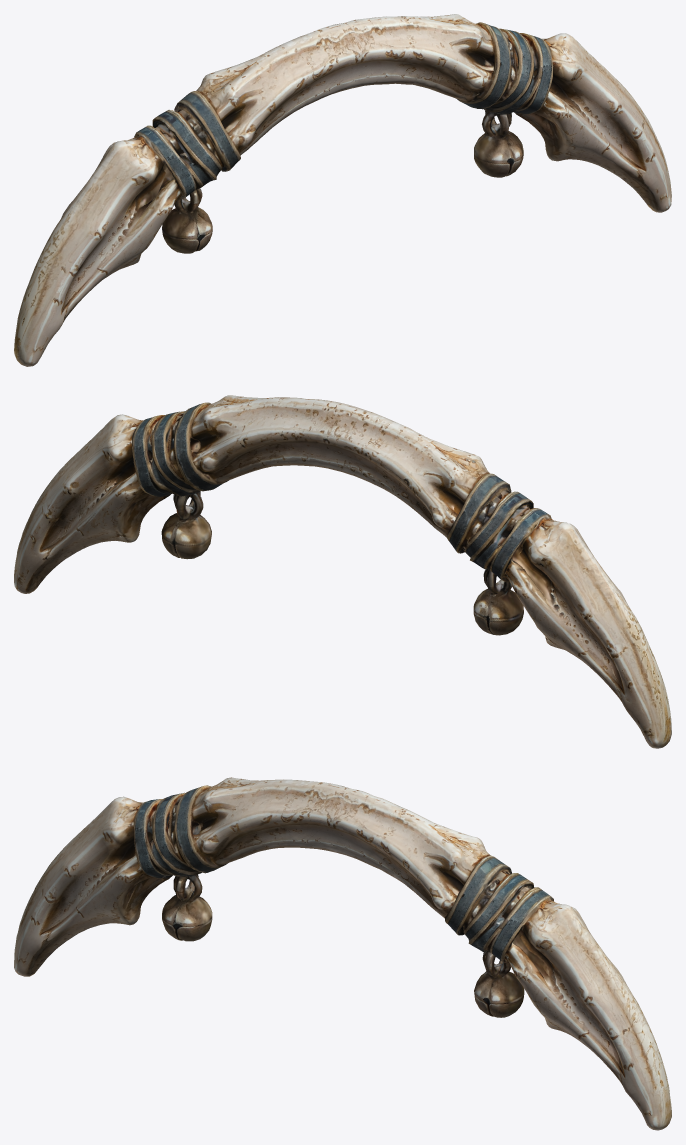
The picture shows the model from 3 angles, top to bottom: view 1: azimuth 30°, elevation 25°; view 2: azimuth 150°, elevation 25°; view 3: azimuth 330°, elevation 25°; orthographic projection.
Visible parts, largest first — view 1: surface_7; view 2: surface_7; view 3: surface_7.
Part boxes in pixels (x1,y1,x2,y2): surface_7: (14,14,671,366); surface_7: (14,395,671,748); surface_7: (14,777,671,1130).
Bounding box in the file's own units: 1 × 0.3879 × 0.1196.
Materials: 1 (1 with a texture image).
